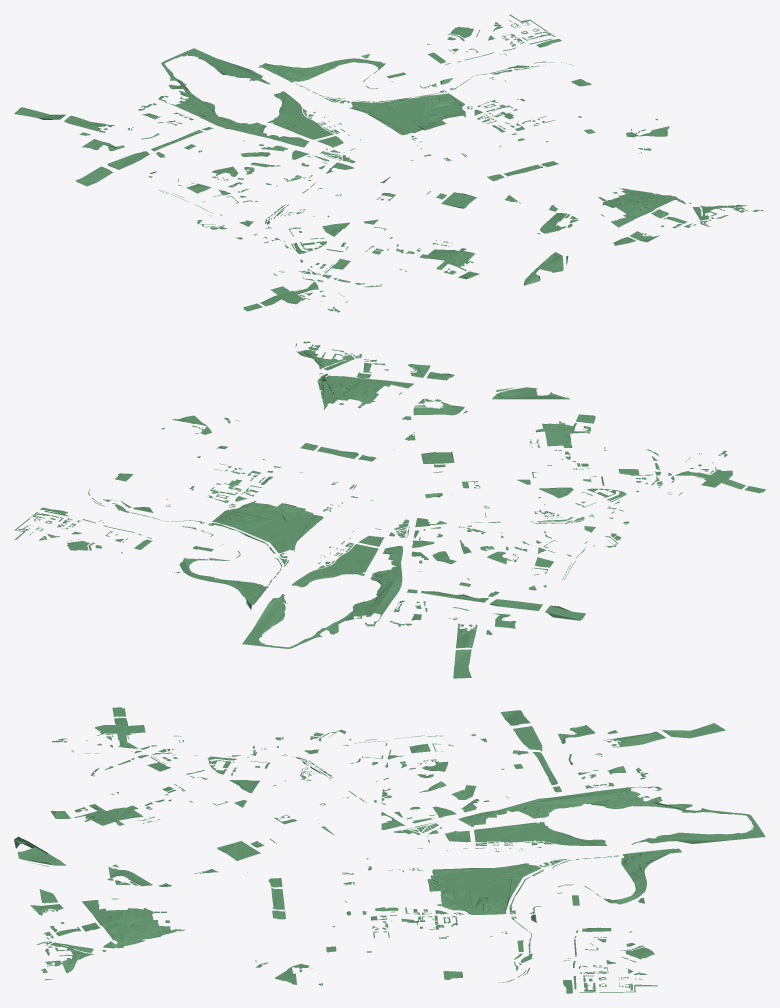
File: green.glb
3 renders of one model, top to bottom at view 1: azimuth 30°, elevation 25°; view 2: azimuth 150°, elevation 25°; view 3: azimuth 270°, elevation 25°, orthographic. The views are drawn at different scales.
Parts seen in each view (by area): view 1: green; view 2: green; view 3: green.
Boxes of the visible parts, x1,y1,x2,y2 form: green: (14,14,765,312); green: (14,341,765,678); green: (14,707,765,993).
Bounding box in the file's own units: 2753 × 47.05 × 3035.
